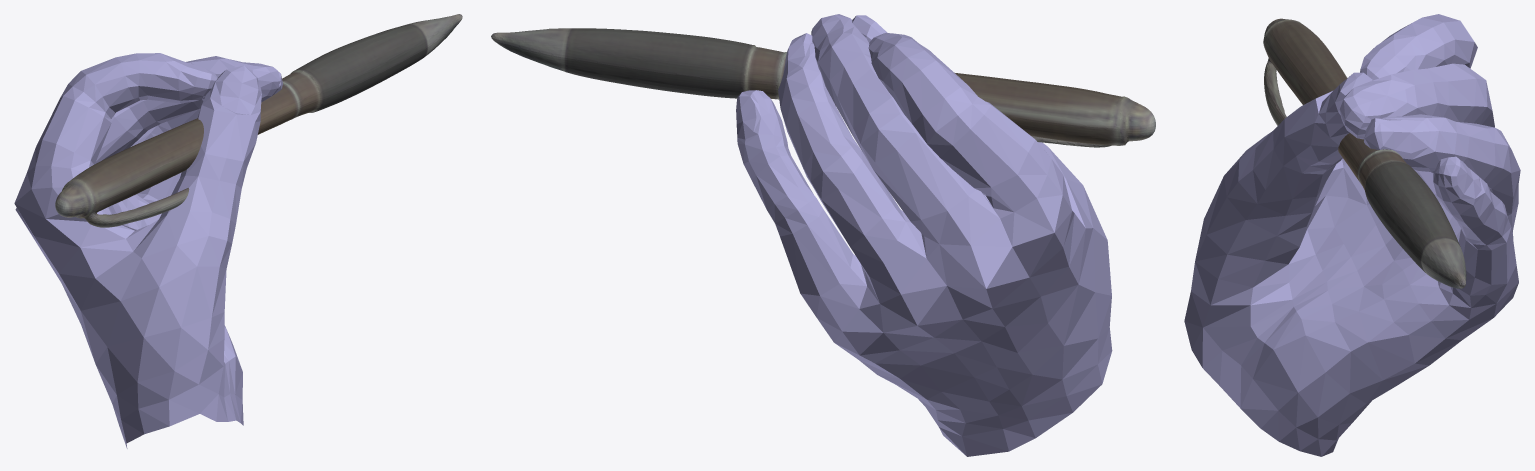
Rendered from frame_0026_source_000026_hand_object.glb.
The picture shows the model from 3 angles, left to right: view 1: azimuth 30°, elevation 25°; view 2: azimuth 150°, elevation 25°; view 3: azimuth 270°, elevation 25°; orthographic projection. The views are drawn at different scales.
Visible parts, largest first — view 1: world; view 2: world; view 3: world.
Part boxes in pixels (x1,y1,x2,y2): world: (14, 14, 462, 448); world: (491, 14, 1155, 456); world: (1184, 14, 1520, 456).
Bounding box in the file's own units: 0.1849 × 0.1348 × 0.0955.
